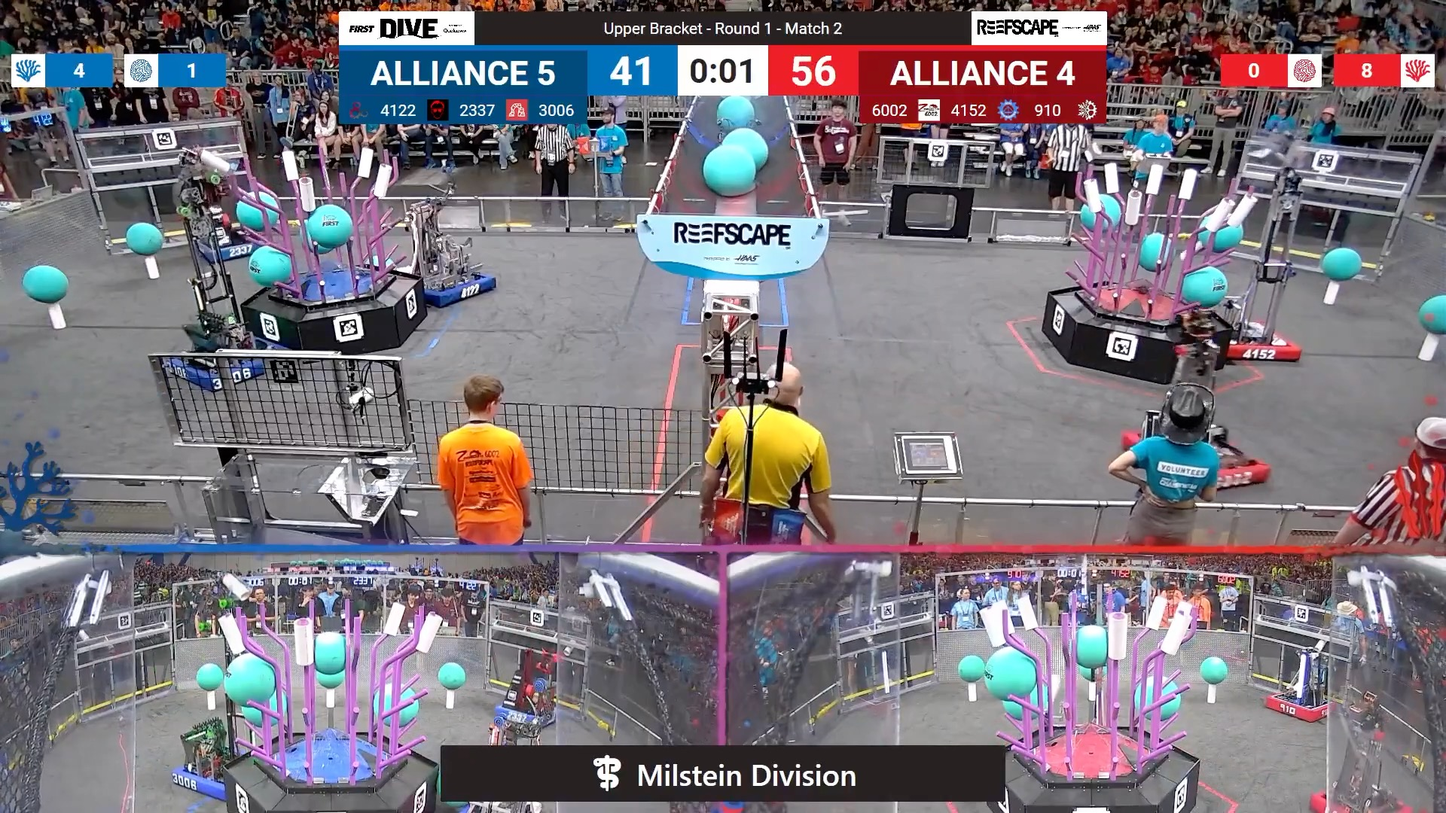bumpers: (1124, 422, 1275, 497), (165, 343, 279, 393), (1192, 318, 1303, 367), (395, 261, 505, 307), (167, 749, 244, 798), (1307, 782, 1419, 812), (1259, 690, 1340, 724), (487, 699, 563, 734), (185, 238, 268, 264)
